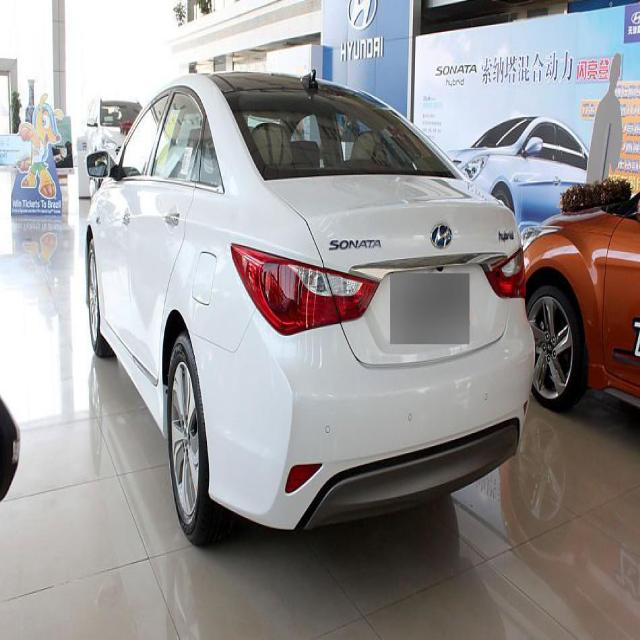back_glass: (222, 85, 465, 181)
back_left_side_light: (228, 238, 338, 336)
back_right_side_light: (482, 239, 530, 299)
door: (130, 94, 210, 362)
front_left_side_door: (103, 83, 173, 358)
front_left_side_mirror: (83, 144, 116, 184)
rear_bumper: (201, 296, 537, 532)
wheel: (168, 335, 215, 542), (86, 236, 117, 355)
